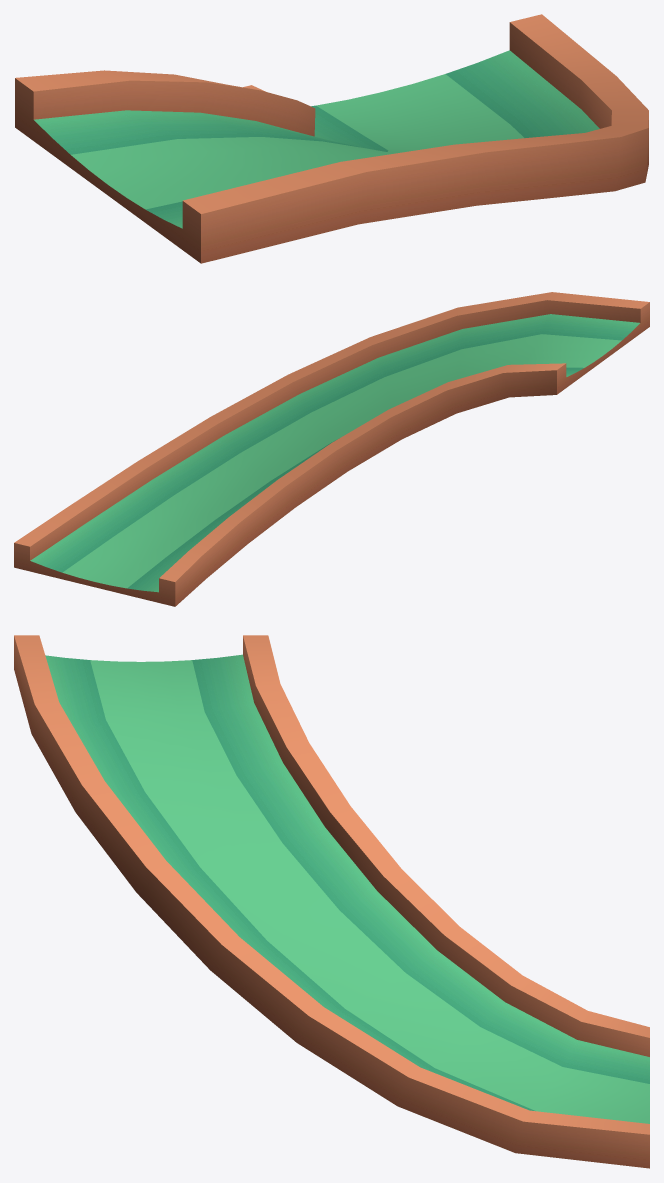
Rendered from spline-concave-corner-small-ramp.glb.
The picture shows the model from 3 angles, top to bottom: view 1: azimuth 30°, elevation 25°; view 2: azimuth 150°, elevation 25°; view 3: azimuth 270°, elevation 25°; orthographic projection. The views are drawn at different scales.
Visible parts, largest first — view 1: spline-concave-corner-small-ramp; view 2: spline-concave-corner-small-ramp; view 3: spline-concave-corner-small-ramp.
Boxes of the visible parts, x1,y1,x2,y2 form: spline-concave-corner-small-ramp: [15, 14, 648, 263]; spline-concave-corner-small-ramp: [14, 292, 649, 606]; spline-concave-corner-small-ramp: [14, 635, 649, 1168].
Size of the model in its own units: 2.5 by 1.15 by 2.5.
1 material, 1 textured.
